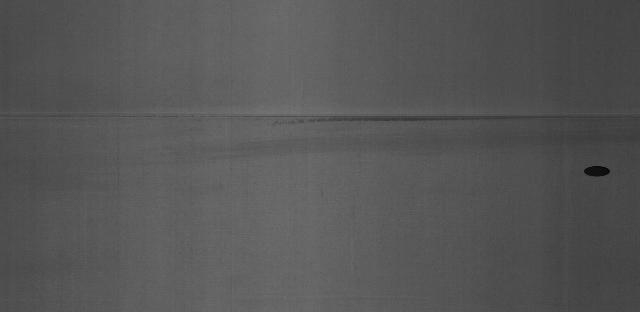punching_hole: (580, 162, 613, 180)
welding_line: (3, 106, 634, 129)
